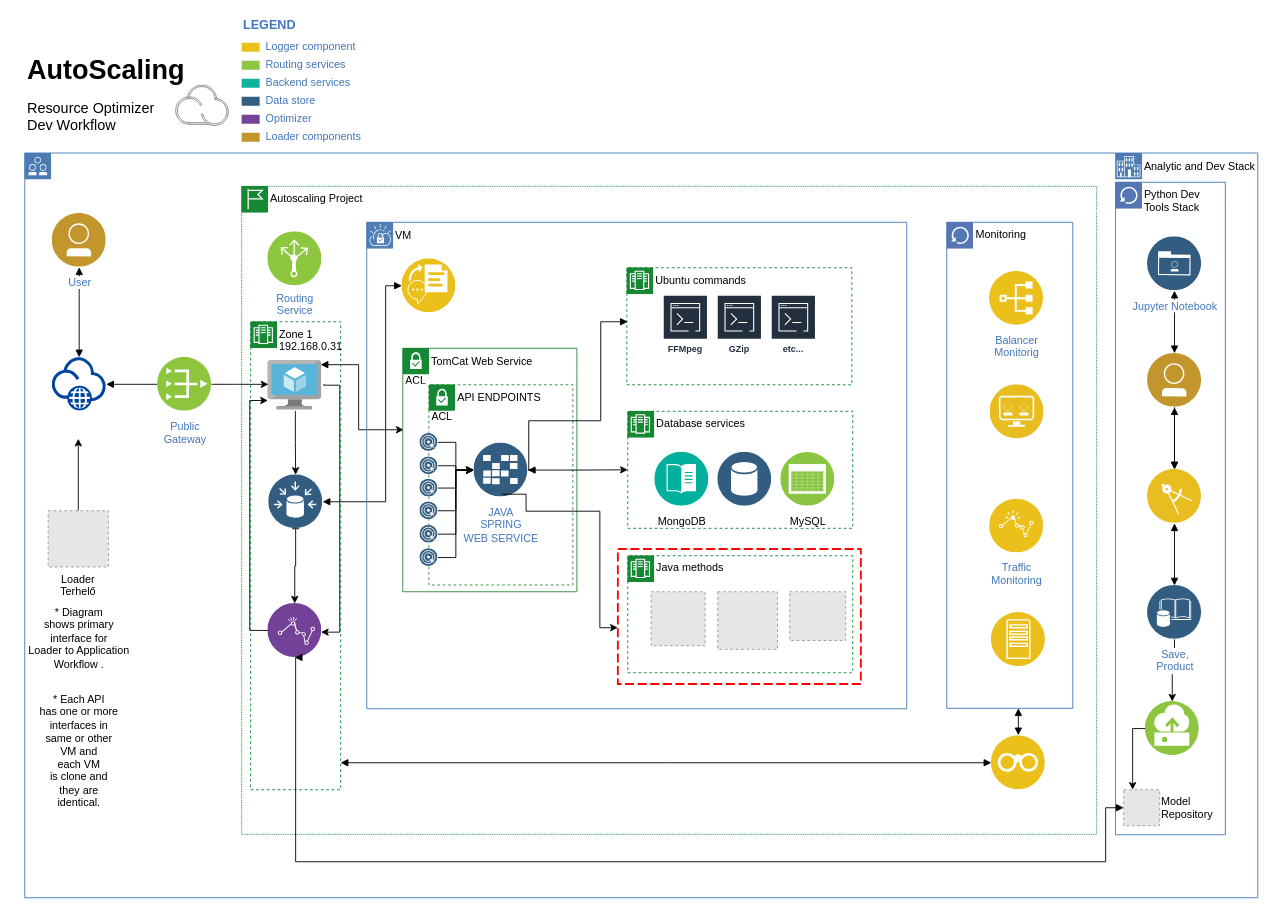
Image size: 1274x914. Some labels were removed from this diagram. Grey dashed boxes stand in for pictures. Here are the shapes that lost their labels. From the top down, the centre of each, then its label:
At (x=37, y=166): "Public Network".
At (x=428, y=285): "System Metric Logger".
At (x=79, y=384): "Internet".
At (x=294, y=385): "Load Balancer VM".
At (x=1174, y=380): "Model Analitcs and Dvelop".
At (x=1017, y=411): "Web App Monitoring".
At (x=744, y=479): "Postgre".
At (x=1174, y=496): "Backtest the Model".
At (x=295, y=501): "METRICS COLLECTOR".
At (x=294, y=630): "OPTIMIZER APP".
At (x=1018, y=639): "Log Storage".
At (x=1172, y=728): "Ready Model".
At (x=1018, y=762): "Visualisation Web UI".
